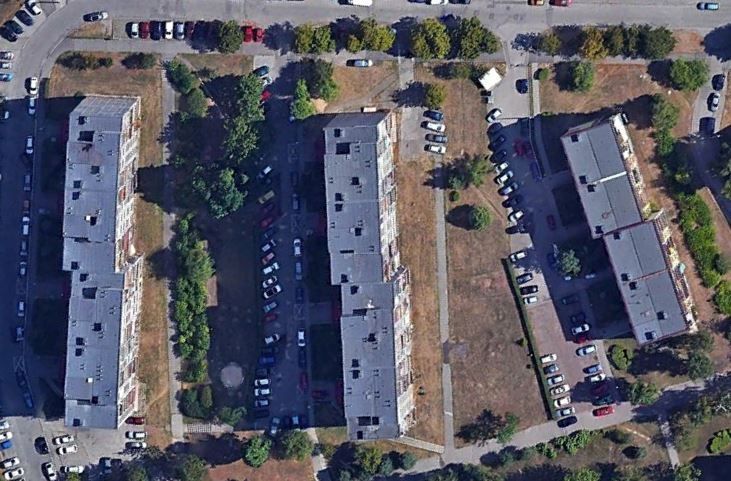block of flats: (557, 111, 703, 346), (321, 103, 419, 441), (56, 91, 147, 433)
